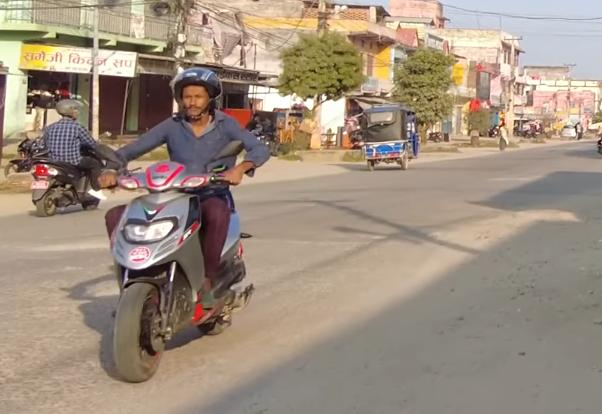e-rickshaw: (359, 106, 420, 170)
scooter: (66, 136, 264, 393), (21, 146, 103, 217)
